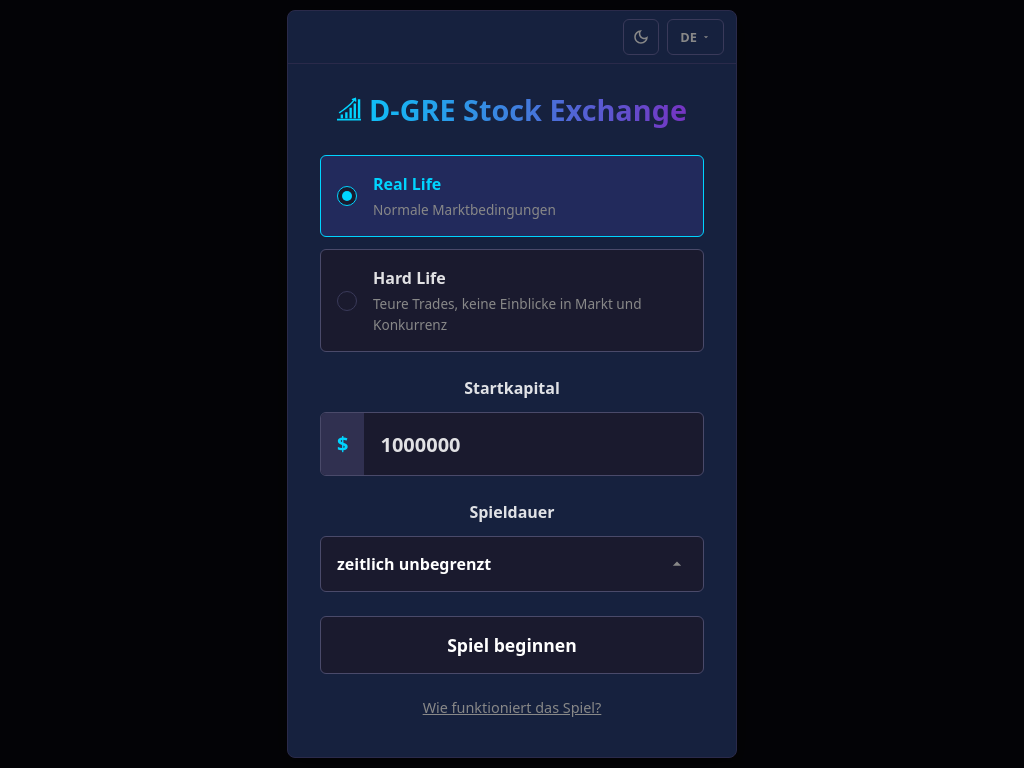
Test: GameStart › duration dropdown › should open duration options when clicking the dropdown
Click the button with aria-label "Spieldauer" at (414, 564), box [320,536,704,592]
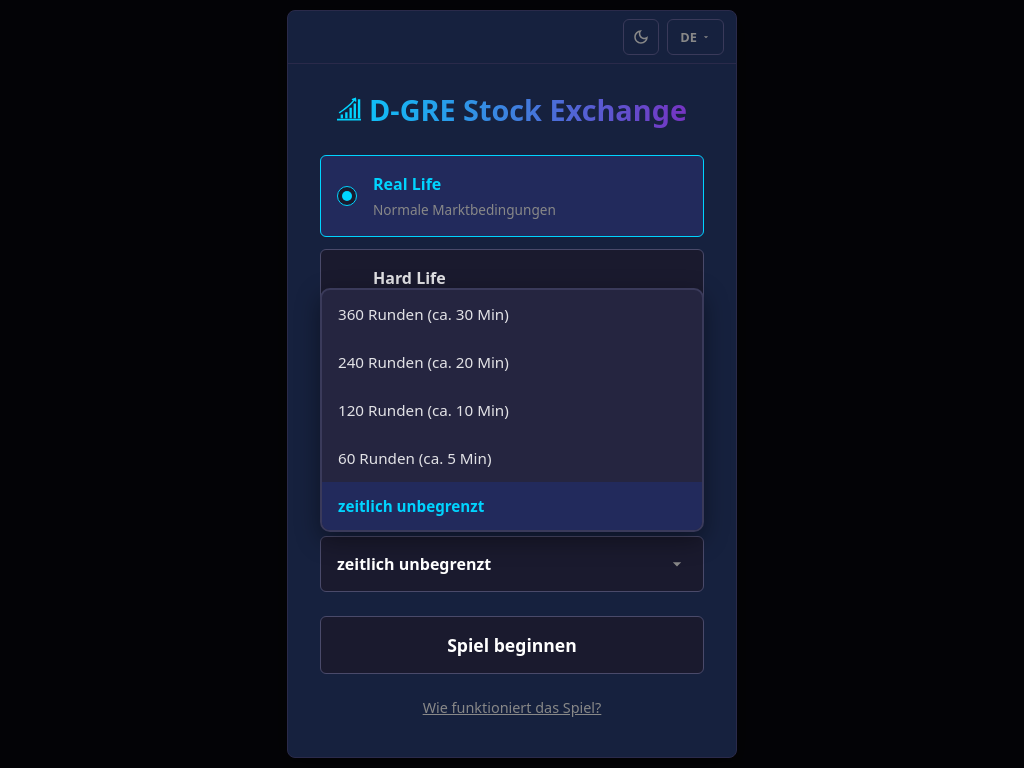
Expected: the button "360 Runden (ca. 30 Min)" is shown, [322,290,702,338]
Expected: the button "240 Runden (ca. 20 Min)" is shown, [322,338,702,386]
Expected: the button "120 Runden (ca. 10 Min)" is shown, [322,386,702,434]
